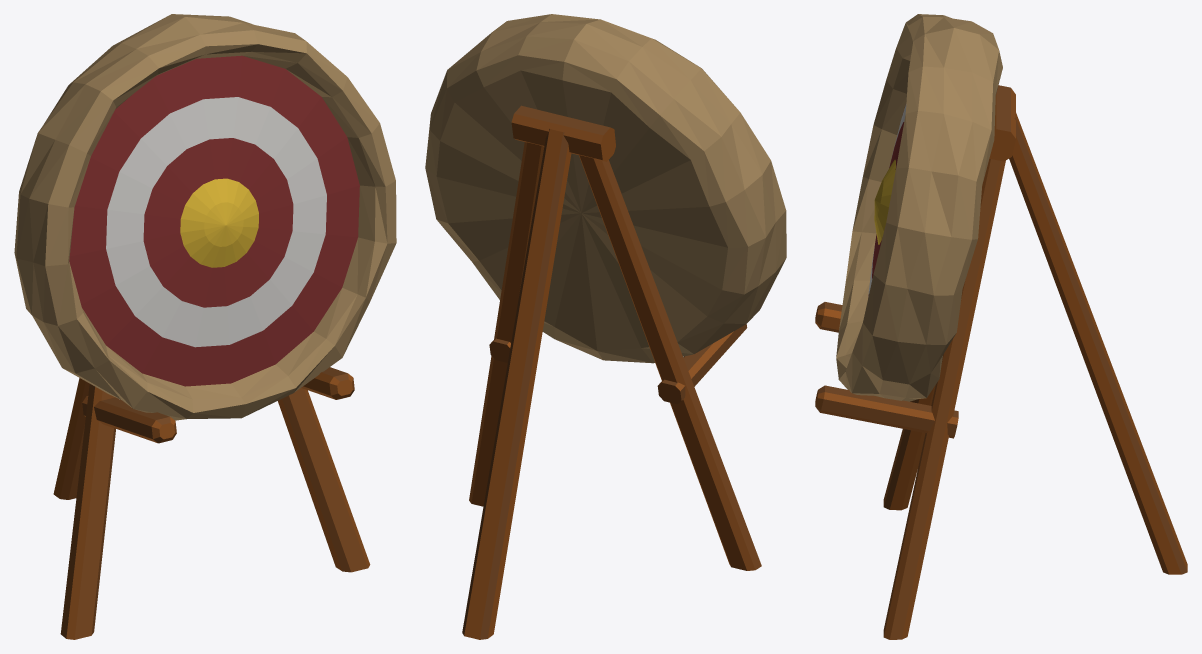
File: archery-target-762034.glb
3 renders of one model, left to right at view 1: azimuth 30°, elevation 25°; view 2: azimuth 150°, elevation 25°; view 3: azimuth 270°, elevation 25°, orthographic. The views are drawn at different scales.
Visible parts, largest first — view 1: object 3, object 1, fold-rear-leg; view 2: object 3, object 1, fold-rear-leg; view 3: object 3, object 1, fold-rear-leg.
Part boxes in pixels (x1,y1,x2,y2): object 3: (14,14,396,420); object 1: (60,367,370,639); fold-rear-leg: (53,378,89,499); object 3: (425,14,786,363); object 1: (469,105,761,570); fold-rear-leg: (462,129,571,639); object 3: (836,14,1002,401); object 1: (815,85,1015,639); fold-rear-leg: (1009,111,1187,574).
Size of the model in its own units: 0.9563 by 1.43 by 0.8934.
